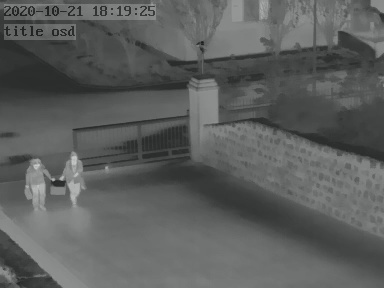person: (60, 151, 84, 205), (26, 155, 48, 211)
